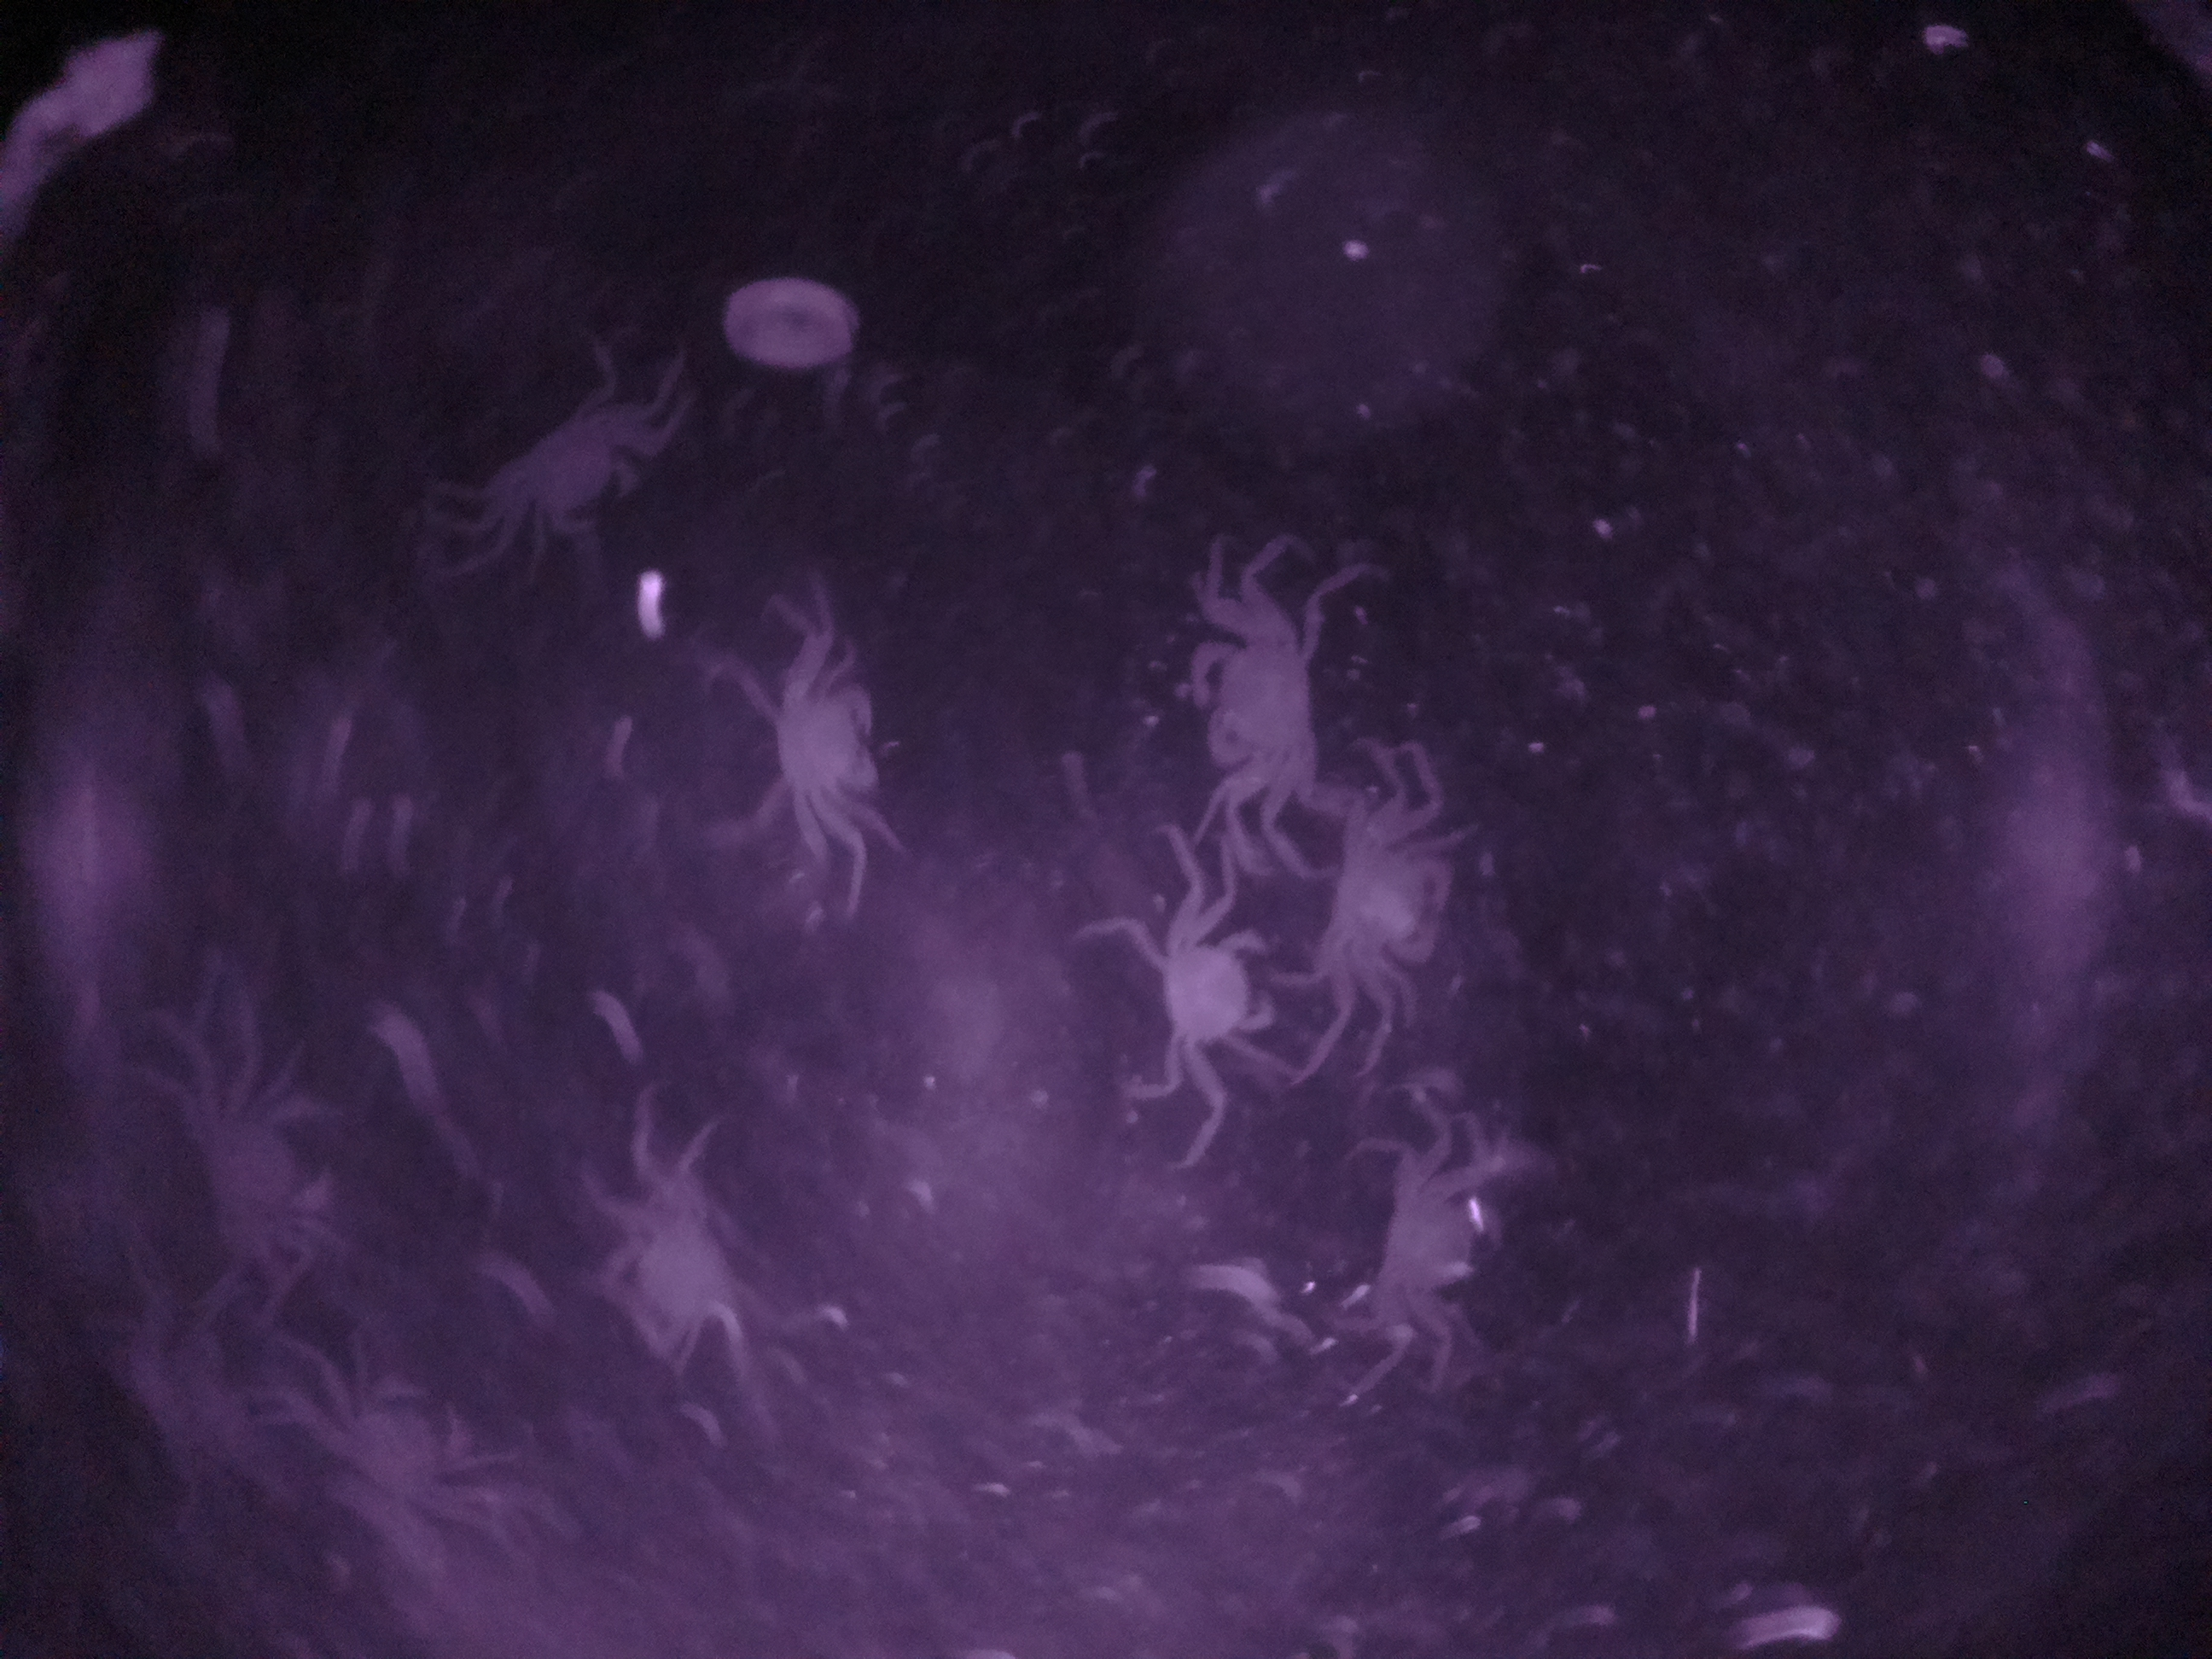Crab: (1120, 884, 1310, 1084), (481, 380, 658, 572), (1308, 803, 1479, 995), (1172, 615, 1329, 821), (744, 643, 899, 850)
